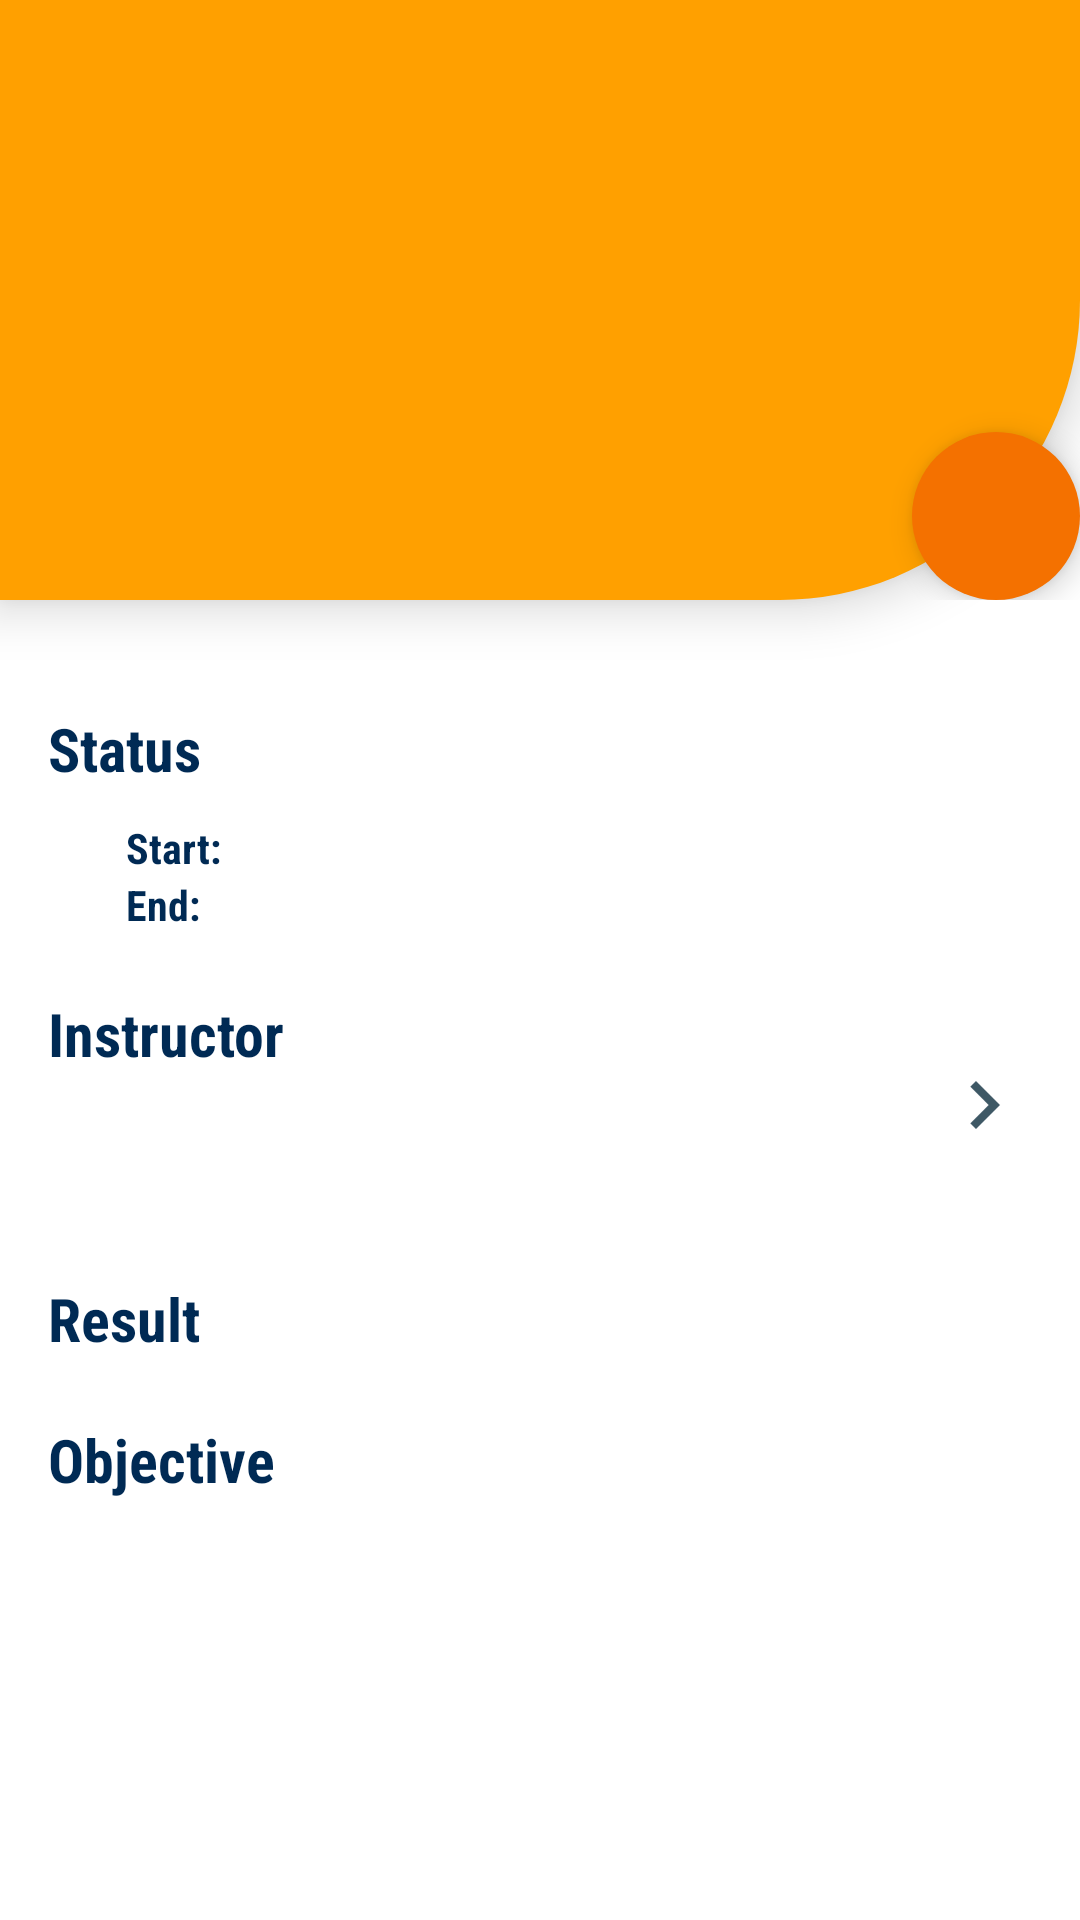

Named icons in this screenshot (1080 × 1920) and their bounding boxes, (x1,y1,x2,y2):
deatils indicator: (970,1081,1000,1129)
